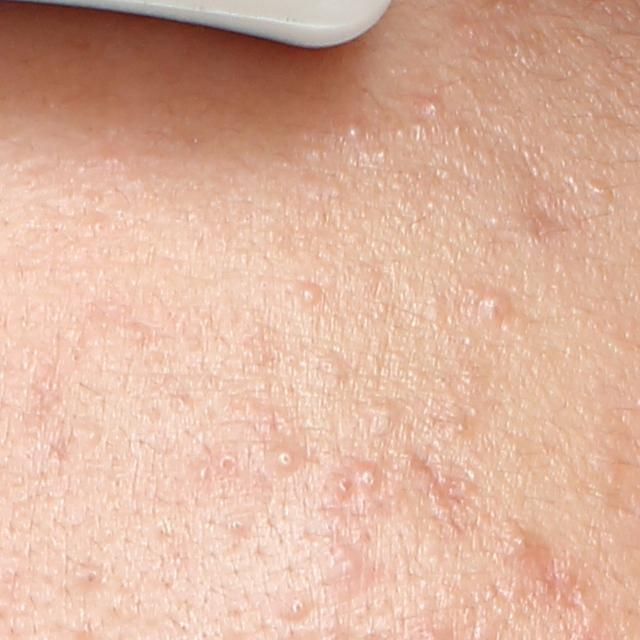comedo: (367, 399, 402, 437), (283, 590, 312, 619), (214, 450, 240, 476), (296, 281, 320, 307), (341, 120, 365, 145), (78, 566, 102, 587), (227, 513, 247, 536), (423, 96, 446, 116), (587, 176, 610, 196), (452, 419, 472, 437), (84, 425, 103, 443)
papule: (502, 523, 549, 566)
